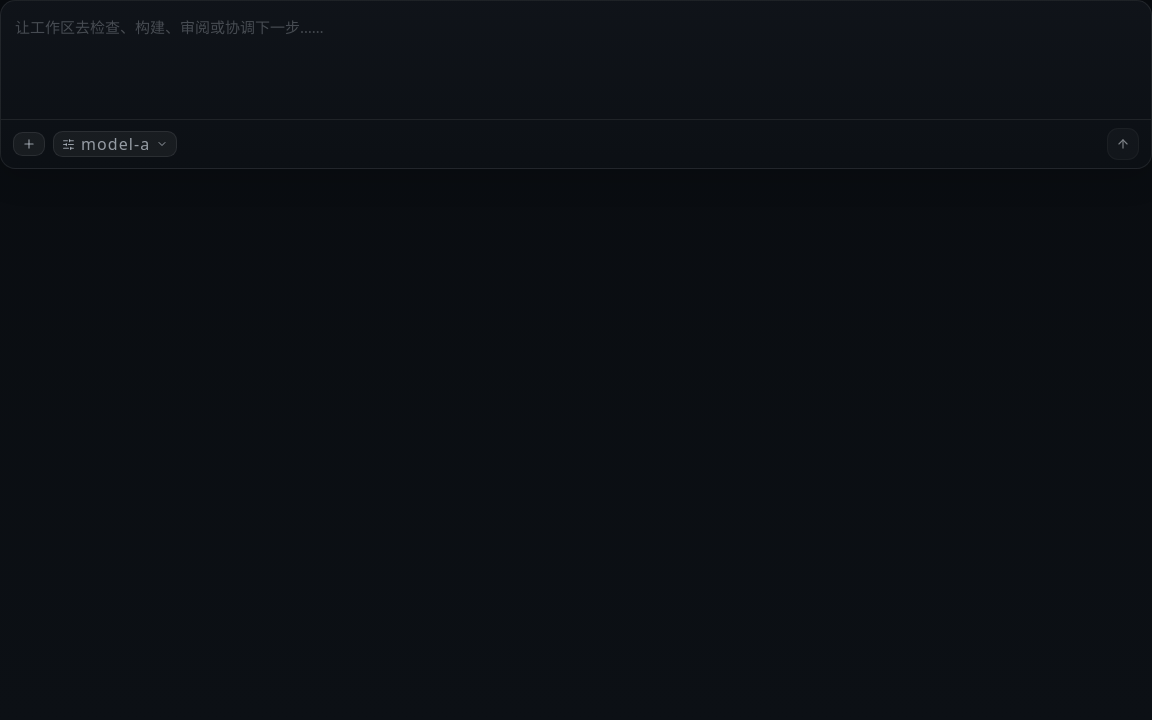
MessageComposer › hides the reasoning section when the model declares none
Click the button "model-a": coordinates (115, 144) [53,131,177,157]
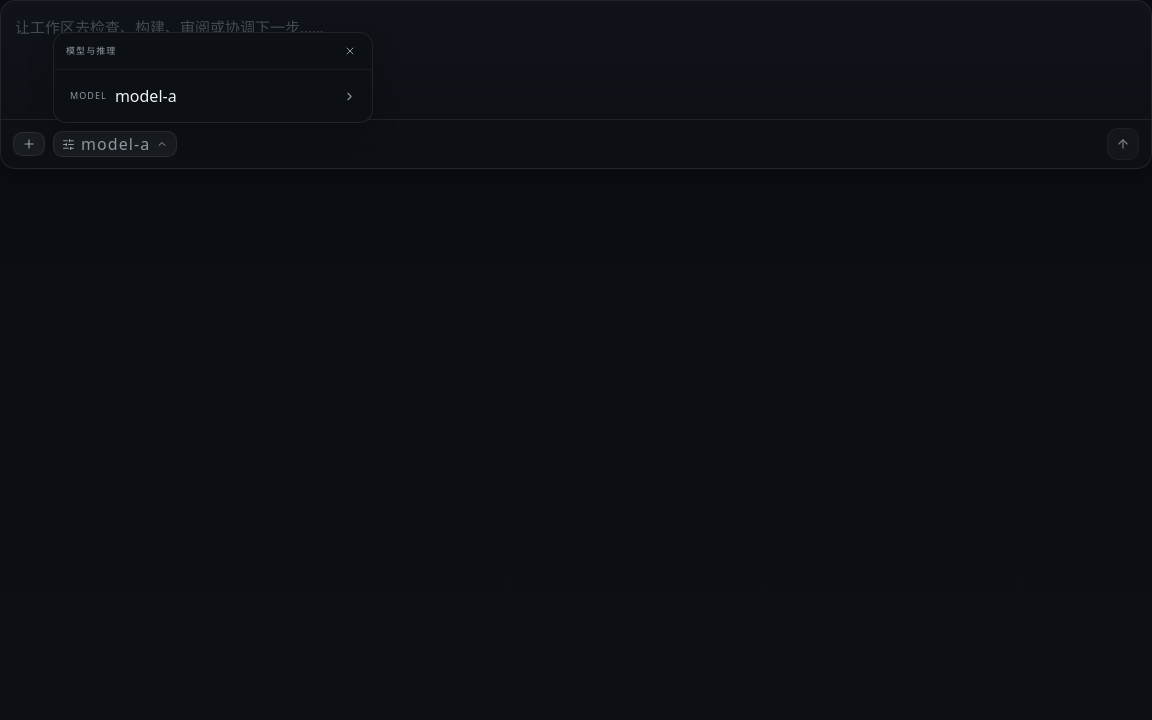
Result: the button "Model model-a" is shown at [60,76,366,116]
